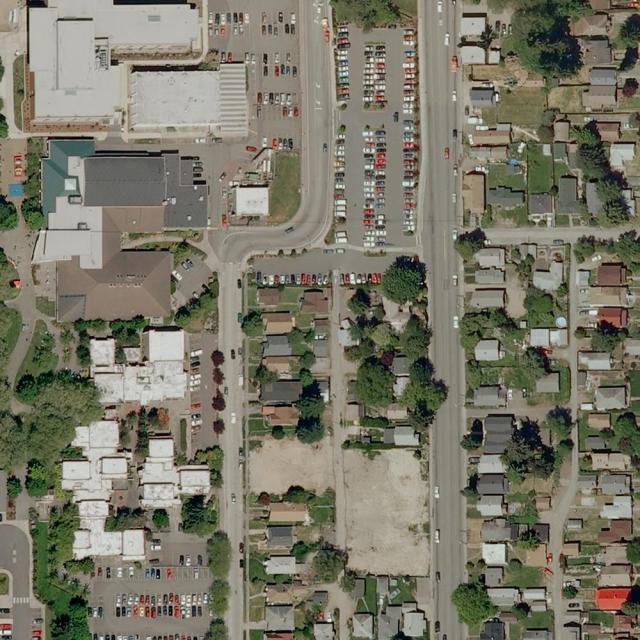building: (28, 134, 215, 333), (52, 417, 148, 571), (86, 325, 192, 410), (55, 250, 174, 321), (135, 430, 212, 510), (266, 502, 310, 551), (262, 334, 294, 377), (476, 474, 506, 516), (484, 414, 514, 454), (480, 517, 520, 543), (462, 171, 485, 216), (555, 176, 579, 215), (597, 563, 633, 588), (262, 405, 301, 428), (529, 327, 568, 348), (265, 604, 295, 631), (595, 588, 631, 610), (600, 495, 633, 519), (470, 289, 507, 309), (596, 262, 626, 286), (521, 587, 548, 613), (597, 307, 628, 328), (487, 588, 520, 607), (473, 339, 501, 361), (476, 495, 504, 516), (481, 543, 506, 565), (609, 519, 634, 539), (484, 566, 504, 586)
dryland: (343, 448, 430, 578), (248, 435, 333, 494)
metalled_road: (216, 262, 248, 640), (484, 225, 630, 246)
